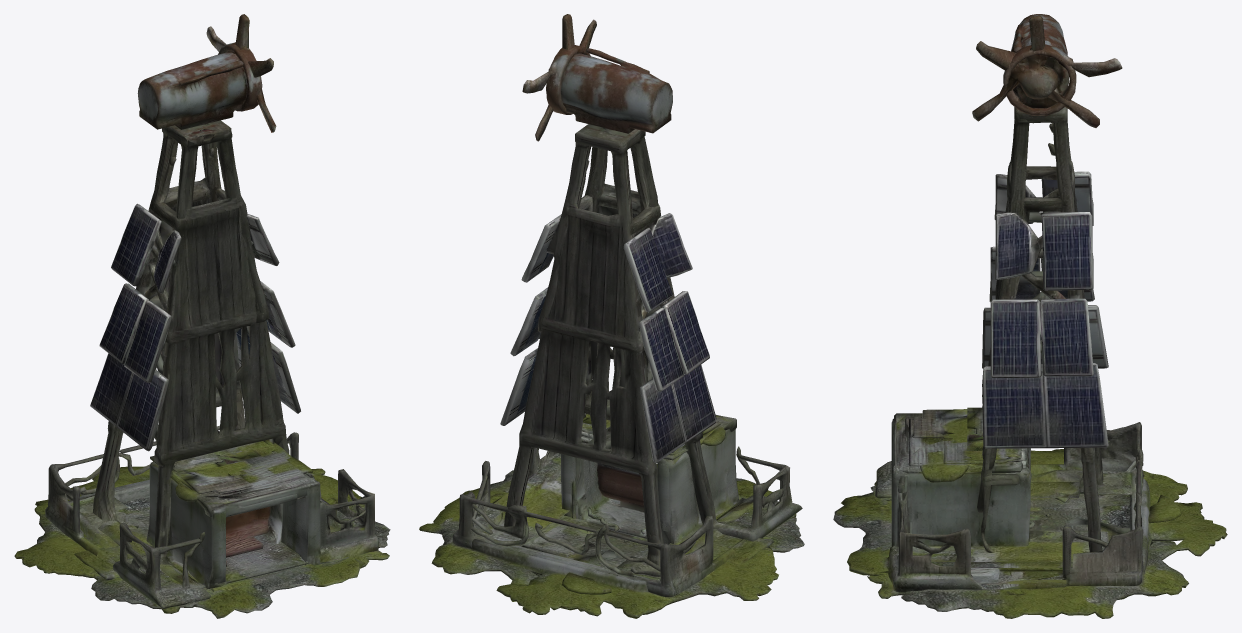
The model's file is windmill.glb.
The picture shows the model from 3 angles, left to right: view 1: azimuth 30°, elevation 25°; view 2: azimuth 150°, elevation 25°; view 3: azimuth 270°, elevation 25°; orthographic projection. The views are drawn at different scales.
Parts seen in each view (by area): view 1: Mesh_0; view 2: Mesh_0; view 3: Mesh_0.
Part boxes in pixels (x1,y1,x2,y2): Mesh_0: (14, 14, 390, 618); Mesh_0: (419, 14, 804, 618); Mesh_0: (833, 14, 1227, 618).
Bounding box in the file's own units: 13.22 × 20 × 13.06.
1 material, 1 textured.
